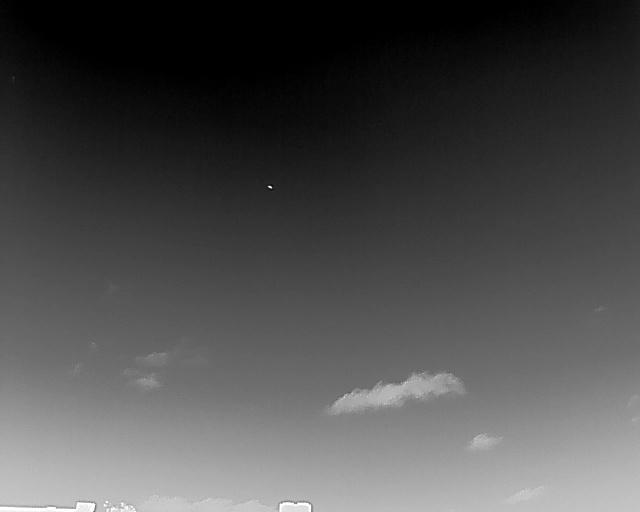fpv-drone: (266, 184, 273, 189)
